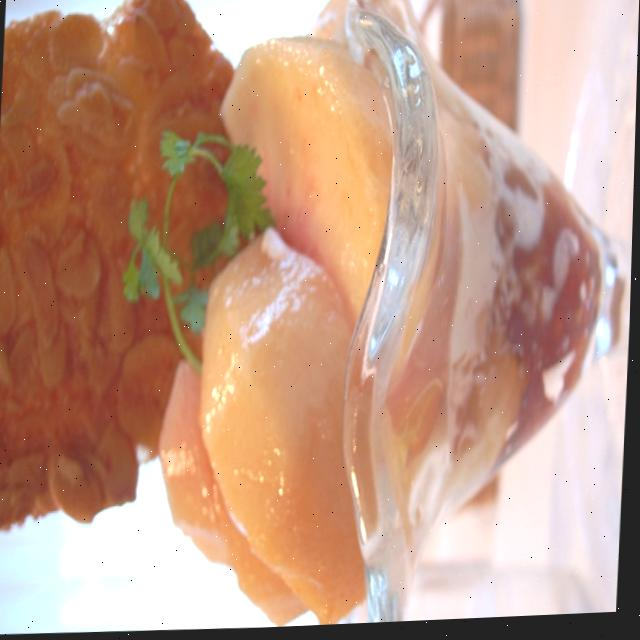蛋糕甜品: (57, 0, 639, 598)
